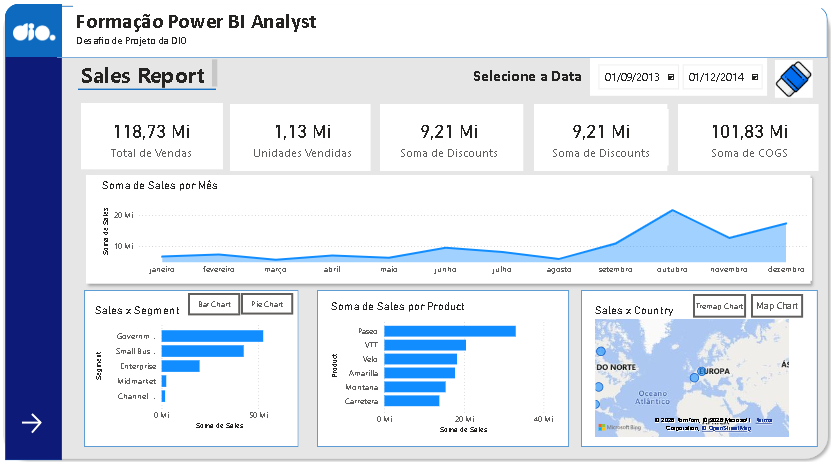

This screenshot's page, from the dashboard's own definition file:
{"tool":"powerbi","page":{"name":"Página 1","canvas":[1280,720],"ordinal":0},"visuals":[{"type":"shape","box":[18.3,0,1261.7,702.2],"z":0},{"type":"shape","box":[143.9,156.7,214.2,100.4],"z":0,"group":"g1"},{"type":"clusteredBarChart","title":"Sales x Segment","fields":{"Y":["Sum(financials. Sales)"],"Category":["financials.Segment"]},"box":[161.7,459.1,300,195.8],"z":0,"group":"g3"},{"type":"shape","box":[369.4,157.7,212.3,101.1],"z":1000,"group":"g1"},{"type":"donutChart","title":"Sales x Segment","fields":{"Category":["financials.Segment"],"Y":["Sum(financials. Sales)"]},"box":[163.7,456.6,300,195.8],"z":1000,"group":"g3"},{"type":"actionButton","title":"Botão - Bar","box":[305.9,444.1,78.8,33.8],"z":1250,"group":"g3"},{"type":"actionButton","title":"Botão - Pie","box":[385.9,443.5,78.8,32.5],"z":1500,"group":"g3"},{"type":"shape","box":[30,8,86,688],"z":2000},{"type":"shape","box":[594.6,157.7,216,101.1],"z":2000,"group":"g1"},{"type":"map","title":"Sales x Country","fields":{"Size":["Sum(financials. Sales)"],"Category":["financials.Country"]},"box":[915.7,458.5,301.7,206.6],"z":2242,"group":"g2"},{"type":"actionButton","title":"Botão - Tremap","box":[1067.5,444.8,80,35.7],"z":2500,"group":"g2"},{"type":"shape","box":[108.3,10,1161.7,78.3],"z":3000},{"type":"shape","box":[827,157.7,201.4,101.1],"z":3000,"group":"g1"},{"type":"actionButton","title":"Botão - Map","box":[1156.1,445.5,78.6,35.7],"z":3000,"group":"g2"},{"type":"shape","box":[30,8,86,80],"z":3500},{"type":"textbox","box":[133.3,8.3,1128.3,78.3],"z":4000},{"type":"shape","box":[1044.9,157.7,212.3,101.1],"z":4000,"group":"g1"},{"type":"group","id":"g1","title":"Cartôes","box":[140,123.3,1116.7,135],"z":5000},{"type":"card","fields":{"Values":["Sum(financials.Units Sold)"]},"box":[377.2,165.5,203.3,85],"z":5000,"group":"g1"},{"type":"textbox","box":[140,86.7,215,53.3],"z":6000},{"type":"card","fields":{"Values":["Sum(financials. Sales)"]},"box":[148.9,165.5,203.3,85],"z":6000,"group":"g1"},{"type":"card","fields":{"Values":["Sum(financials.Discounts)"]},"box":[827.2,165.5,203.3,85],"z":7000,"group":"g1"},{"type":"shape","box":[143.3,256.7,1110,181.7],"z":7000},{"type":"card","fields":{"Values":["Sum(financials.COGS)"]},"box":[1050.6,165.5,203.3,85],"z":8000,"group":"g1"},{"type":"shape","box":[150,438.3,323.3,236.7],"z":8000},{"type":"card","fields":{"Values":["Sum(financials.Discounts)"]},"box":[598.9,165.5,203.3,85],"z":9000,"group":"g1"},{"type":"shape","box":[898.3,438.3,356.7,236.7],"z":9000},{"type":"shape","box":[140,123.3,208.3,25],"z":10000,"group":"g1"},{"type":"shape","box":[500,438.3,380,236.7],"z":10000},{"type":"areaChart","fields":{"Category":["financials.Date.Variation.Hierarquia de datas.Mês"],"Y":["Sum(financials. Sales)"]},"box":[171.7,270,1075,155],"z":11000},{"type":"clusteredBarChart","fields":{"Y":["Sum(financials. Sales)"],"Category":["financials.Product"]},"box":[517.5,452.5,345,207.5],"z":12000},{"type":"slicer","fields":{"Values":["financials.Date"]},"box":[911.7,88.3,266.7,56.7],"z":13000},{"type":"textbox","box":[731.7,95,180,43.3],"z":14000},{"type":"group","id":"g2","title":"Sales x país","box":[915.7,444.8,319,220.4],"z":15000},{"type":"group","id":"g3","title":"Sales x Segment","box":[161.7,443.5,302.9,211.5],"z":16000},{"type":"actionButton","box":[50,620,48,40],"z":17000},{"type":"image","box":[42,10,64,78],"z":18000},{"type":"image","box":[1181.7,91.7,75,56.7],"z":19000},{"type":"actionButton","box":[1181.7,91.7,71.7,56.7],"z":20000}]}

Visuals, with their boxes in screenshot pixels (x1, y1, x2, y2), scaled from the page's 1280x720 canvas onto the 831x462 screenshot:
shape: <region>12, 0, 830, 451</region>
shape: <region>93, 101, 232, 165</region>
"Sales x Segment" clusteredBarChart: <region>105, 295, 300, 420</region>
shape: <region>240, 101, 378, 166</region>
"Sales x Segment" donutChart: <region>106, 293, 301, 419</region>
"Botão - Bar" actionButton: <region>199, 285, 250, 307</region>
"Botão - Pie" actionButton: <region>251, 285, 302, 305</region>
shape: <region>19, 5, 75, 447</region>
shape: <region>386, 101, 526, 166</region>
"Sales x Country" map: <region>594, 294, 790, 427</region>
"Botão - Tremap" actionButton: <region>693, 285, 745, 308</region>
shape: <region>70, 6, 825, 57</region>
shape: <region>537, 101, 668, 166</region>
"Botão - Map" actionButton: <region>751, 286, 802, 309</region>
shape: <region>19, 5, 75, 56</region>
textbox: <region>87, 5, 819, 56</region>
shape: <region>678, 101, 816, 166</region>
"Cartôes" group: <region>91, 79, 816, 166</region>
card - Sum(financials.Units Sold): <region>245, 106, 377, 161</region>
textbox: <region>91, 56, 230, 90</region>
card - Sum(financials. Sales): <region>97, 106, 229, 161</region>
card - Sum(financials.Discounts): <region>537, 106, 669, 161</region>
shape: <region>93, 165, 814, 281</region>
card - Sum(financials.COGS): <region>682, 106, 814, 161</region>
shape: <region>97, 281, 307, 433</region>
card - Sum(financials.Discounts): <region>389, 106, 521, 161</region>
shape: <region>583, 281, 815, 433</region>
shape: <region>91, 79, 226, 95</region>
shape: <region>325, 281, 571, 433</region>
areaChart - financials.Date.Variation.Hierarquia de datas.Mês x Sum(financials. Sales): <region>111, 173, 809, 273</region>
clusteredBarChart - Sum(financials. Sales) x financials.Product: <region>336, 290, 560, 424</region>
slicer - financials.Date: <region>592, 57, 765, 93</region>
textbox: <region>475, 61, 592, 89</region>
"Sales x país" group: <region>594, 285, 802, 427</region>
"Sales x Segment" group: <region>105, 285, 302, 420</region>
actionButton: <region>32, 398, 64, 424</region>
image: <region>27, 6, 69, 56</region>
image: <region>767, 59, 816, 95</region>
actionButton: <region>767, 59, 814, 95</region>
